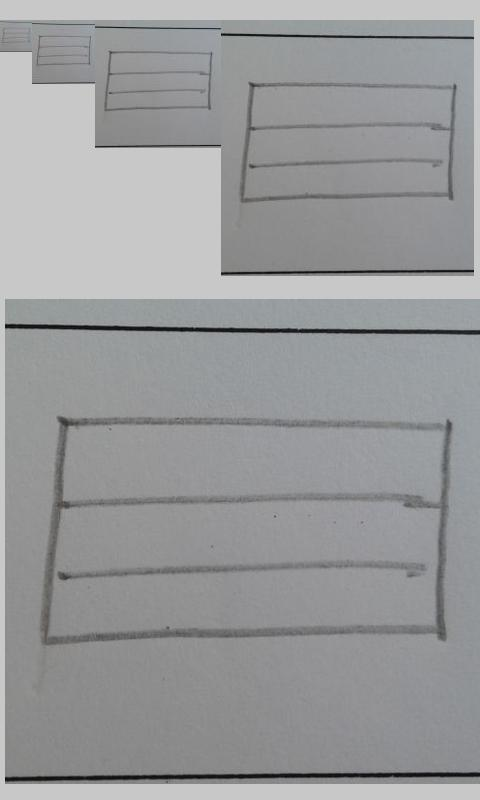list_view: (39, 411, 452, 646), (239, 82, 456, 202), (103, 48, 215, 112), (37, 35, 92, 66), (1, 27, 31, 43)
